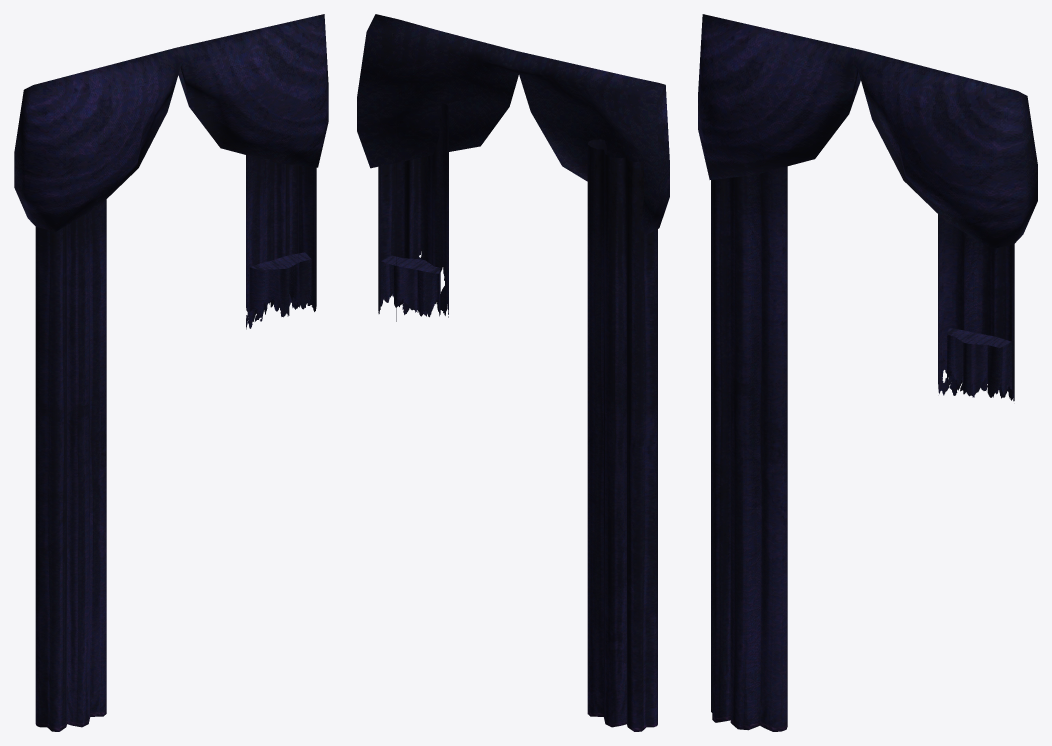
File: 42_curtain02_blue_long_broken02.dae
3 renders of one model, left to right at view 1: azimuth 30°, elevation 25°; view 2: azimuth 150°, elevation 25°; view 3: azimuth 330°, elevation 25°, orthographic. The views are drawn at different scales.
Visible parts, largest first — view 1: polySurface198, polySurface193, polySurface192; view 2: polySurface198, polySurface193, polySurface192; view 3: polySurface198, polySurface193, polySurface192.
Part boxes in pixels (x1,y1,x2,y2): polySurface198: (14, 14, 328, 731); polySurface193: (246, 155, 316, 329); polySurface192: (249, 252, 311, 317); polySurface198: (357, 14, 669, 731); polySurface193: (378, 100, 448, 321); polySurface192: (381, 255, 440, 317); polySurface198: (698, 14, 1037, 731); polySurface193: (938, 214, 1014, 401); polySurface192: (947, 328, 1011, 397).
Size of what is drawn, in the model's own units: 2.5 by 5.08 by 0.4673.
Materials: 2 (2 with a texture image).
